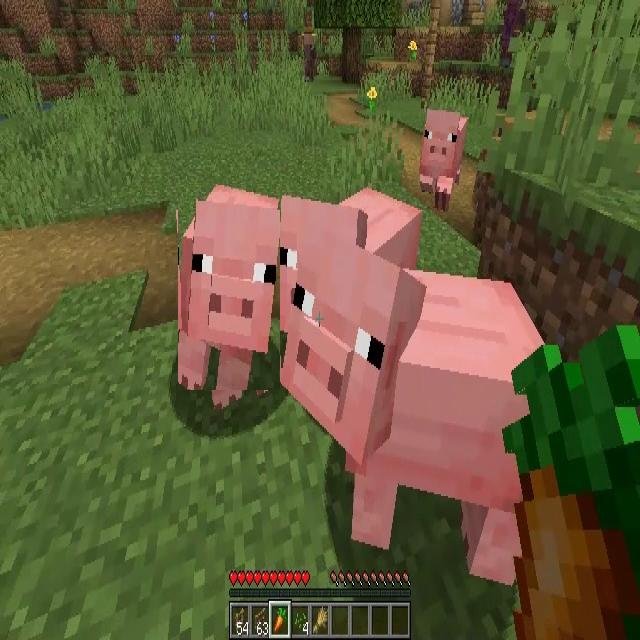flower: (368, 88, 377, 108), (409, 42, 417, 60)
pig: (297, 277, 544, 553), (277, 182, 418, 336), (178, 184, 280, 390), (423, 109, 464, 202)
